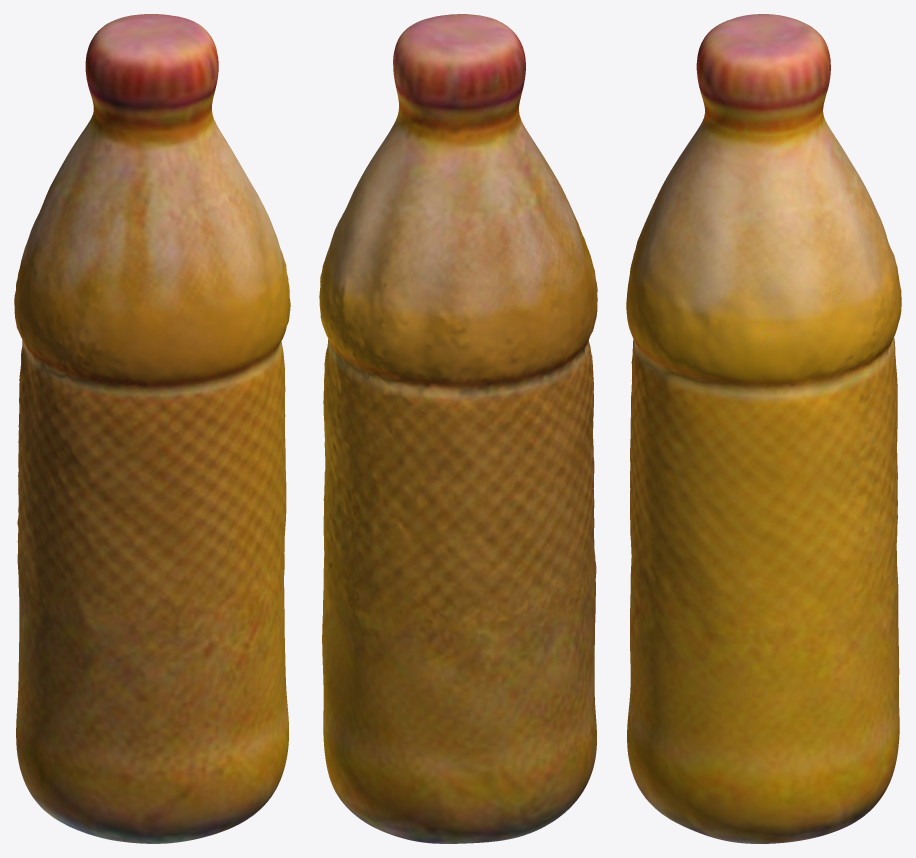
File: orange_juice_bottle_0820102615_preview.fbx
3 renders of one model, left to right at view 1: azimuth 30°, elevation 25°; view 2: azimuth 150°, elevation 25°; view 3: azimuth 270°, elevation 25°, orthographic.
Parts seen in each view (by area): view 1: Mesh1; view 2: Mesh1; view 3: Mesh1.
Part boxes in pixels (x1=…): Mesh1: x1=14, y1=14, x2=290, y2=843; Mesh1: x1=319, y1=14, x2=597, y2=843; Mesh1: x1=626, y1=14, x2=901, y2=843.
Size of the model in its own units: 38.15 by 120 by 38.06.
1 material, 1 textured.
